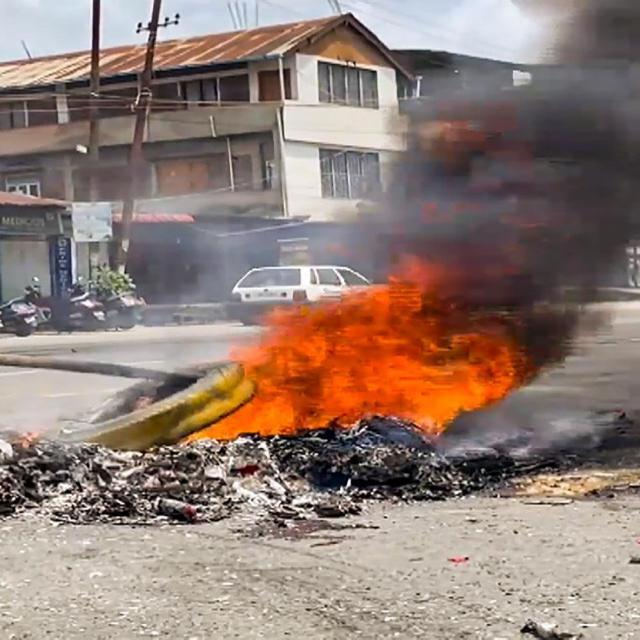fire: (190, 258, 522, 439)
